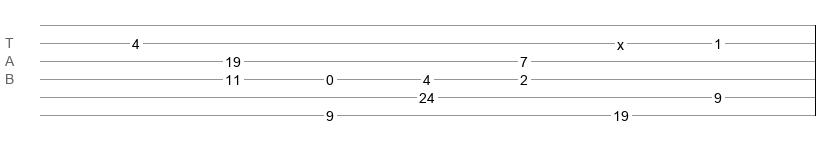0: (326, 72, 334, 82)
1: (714, 36, 722, 46)
11: (225, 72, 241, 82)
19: (225, 54, 241, 64), (613, 108, 629, 118)
2: (520, 72, 528, 82)
24: (419, 90, 435, 100)
4: (132, 36, 140, 46), (423, 72, 431, 82)
7: (520, 54, 528, 64)
9: (326, 108, 334, 118), (714, 90, 722, 100)
x: (617, 37, 624, 45)
